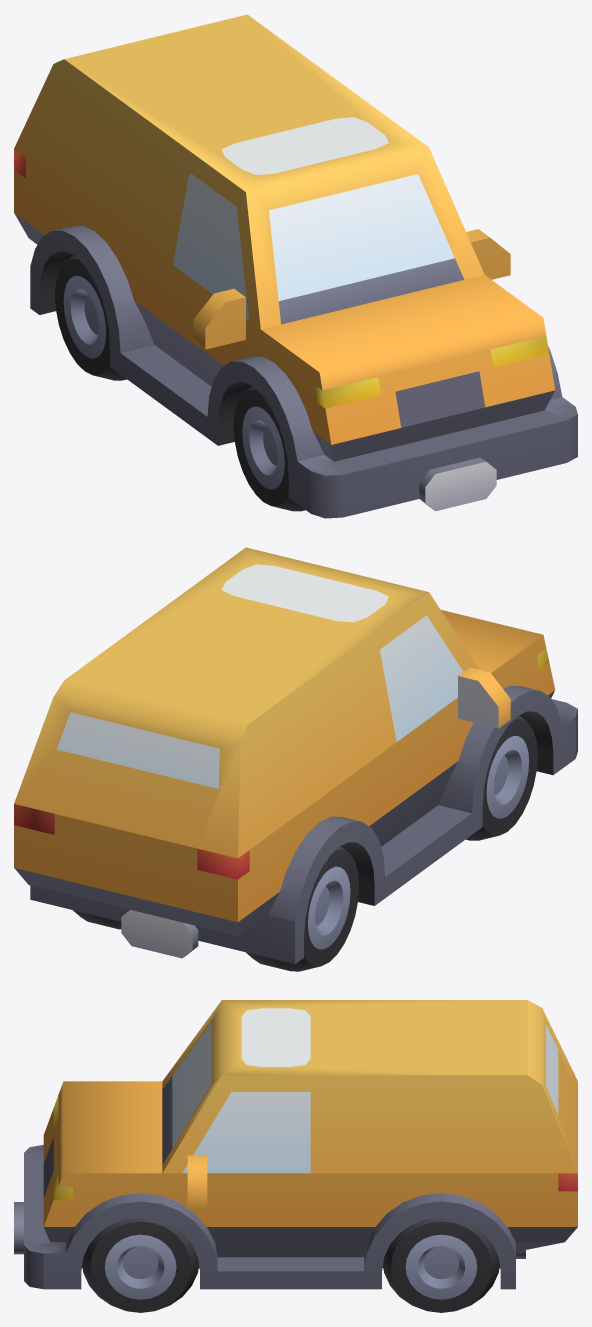
File: suv-luxury.fbx
3 views of the same model, one above another, from view 1: azimuth 30°, elevation 25°; view 2: azimuth 150°, elevation 25°; view 3: azimuth 270°, elevation 25° (orthographic). The views are drawn at different scales.
Parts seen in each view (by area): view 1: body, wheel-front-right, wheel-back-right; view 2: body, wheel-back-right, wheel-front-right; view 3: body, wheel-back-left, wheel-front-left.
Part boxes in pixels (<box>): body: <box>14,14,577,518</box>; wheel-front-right: <box>233,386,305,511</box>; wheel-back-right: <box>55,255,126,380</box>; body: <box>14,547,577,964</box>; wheel-back-right: <box>246,846,359,971</box>; wheel-front-right: <box>466,715,537,840</box>; body: <box>14,1000,577,1289</box>; wheel-back-left: <box>383,1217,499,1312</box>; wheel-front-left: <box>82,1217,198,1312</box>.
Bounding box in the file's own units: 150 × 130 × 285.
Materials: 1 (1 with a texture image).
